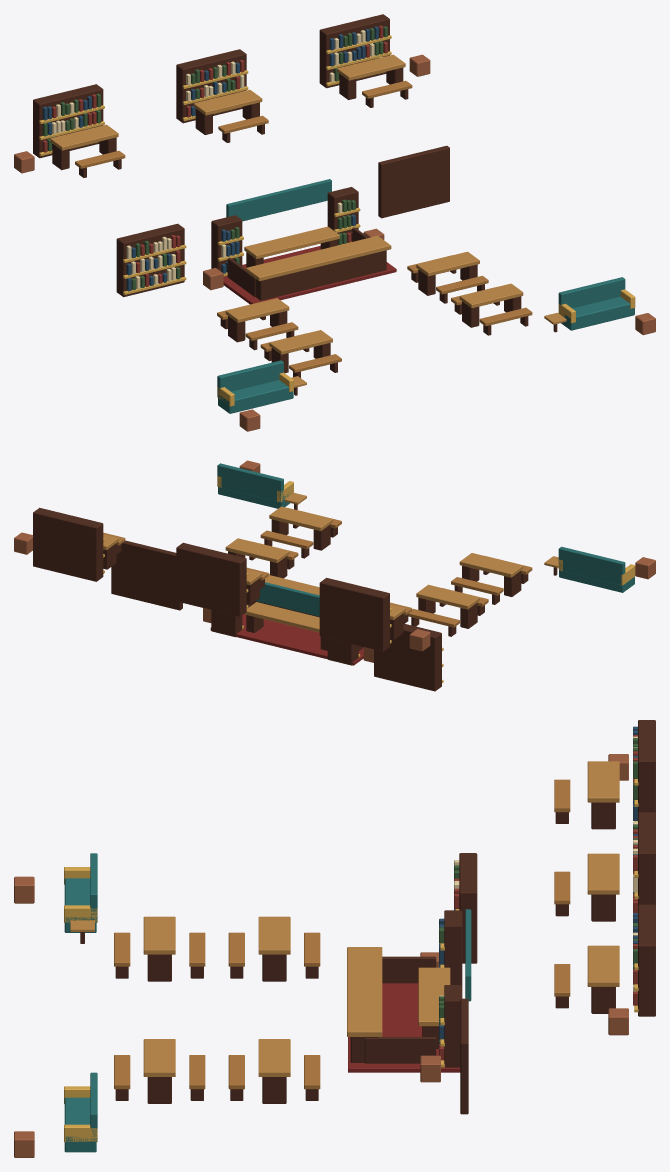
Rendered from SM_Guild_Furniture_Detailed.fbx.
3 views of the same model, one above another, from view 1: azimuth 30°, elevation 25°; view 2: azimuth 150°, elevation 25°; view 3: azimuth 270°, elevation 25° (orthographic). The views are drawn at different scales.
Visible parts, largest first — view 1: QuestBoard, ReceptionCounter, CounterLip, ReceptionSignBack, Bookcase.002, Bookcase.004, Bookcase.005, Bookcase.003, SofaSeat, Desk, SofaSeat.001, ReceptionDais (+12 smaller); view 2: Bookcase.004, Bookcase.005, Bookcase.003, QuestBoard, Bookcase.002, ReceptionDais, SofaBack, SofaBack.001, ReceptionSignBack, Desk, Desk.001, Desk.004 (+16 smaller); view 3: CounterLip, ReceptionDais, Bookcase.005, StationSidePanel.001, Bookcase.002, Bookcase.003, Bookcase.004, Desk, Bookcase.001, Desk.005, Desk.007, Desk.006 (+17 smaller).
Boxes of the visible parts, bbox=[...] form: QuestBoard: bbox=[378, 145, 449, 218]; ReceptionCounter: bbox=[255, 250, 386, 300]; CounterLip: bbox=[246, 235, 391, 281]; ReceptionSignBack: bbox=[226, 179, 331, 221]; Bookcase.002: bbox=[116, 223, 184, 297]; Bookcase.004: bbox=[176, 49, 246, 123]; Bookcase.005: bbox=[319, 14, 389, 88]; Bookcase.003: bbox=[33, 84, 103, 158]; SofaSeat: bbox=[218, 380, 293, 413]; Desk: bbox=[244, 226, 339, 258]; SofaSeat.001: bbox=[561, 296, 634, 330]; ReceptionDais: bbox=[223, 246, 396, 304]; Bookcase.004: bbox=[176, 542, 246, 616]; Bookcase.005: bbox=[33, 507, 103, 581]; Bookcase.003: bbox=[319, 577, 389, 651]; QuestBoard: bbox=[111, 540, 182, 610]; Bookcase.002: bbox=[374, 624, 441, 691]; ReceptionDais: bbox=[210, 614, 363, 665]; SofaBack: bbox=[558, 546, 625, 585]; SofaBack.001: bbox=[217, 463, 283, 501]; ReceptionSignBack: bbox=[256, 582, 319, 616]; Desk: bbox=[244, 602, 319, 632]; Desk.001: bbox=[459, 553, 523, 577]; Desk.004: bbox=[225, 538, 289, 562]; CounterLip: bbox=[347, 947, 382, 1036]; ReceptionDais: bbox=[348, 983, 460, 1072]; Bookcase.005: bbox=[638, 904, 655, 1016]; StationSidePanel.001: bbox=[364, 1037, 436, 1063]; Bookcase.002: bbox=[459, 853, 477, 963]; Bookcase.003: bbox=[638, 720, 655, 812]; Bookcase.004: bbox=[638, 812, 655, 904]; Desk: bbox=[418, 967, 450, 1026]; Bookcase.001: bbox=[444, 985, 462, 1067]; Desk.005: bbox=[587, 761, 619, 802]; Desk.007: bbox=[587, 945, 619, 986]; Desk.006: bbox=[587, 853, 619, 894].
Size of the model in its own units: 1655 by 1707 by 570.
